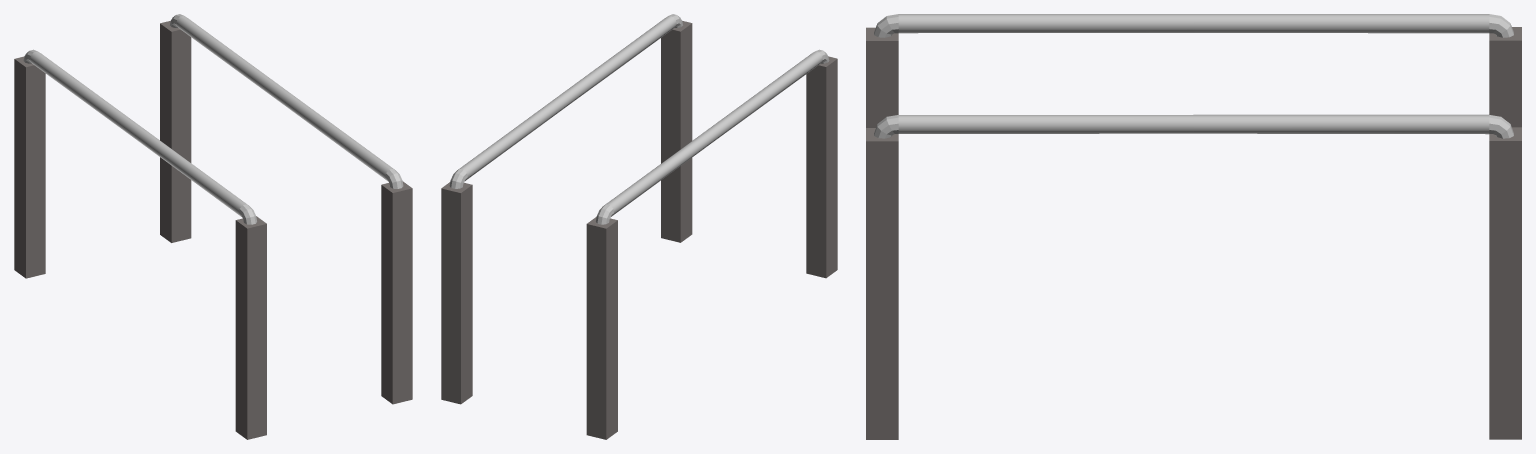
The model's file is SM_Crossbar_02.fbx.
3 renders of one model, left to right at view 1: azimuth 30°, elevation 25°; view 2: azimuth 150°, elevation 25°; view 3: azimuth 270°, elevation 25°, orthographic. The views are drawn at different scales.
Parts seen in each view (by area): view 1: SM_Crossbar_02; view 2: SM_Crossbar_02; view 3: SM_Crossbar_02.
Boxes of the visible parts, <box> form: SM_Crossbar_02: <box>14,14,412,439</box>; SM_Crossbar_02: <box>441,14,837,439</box>; SM_Crossbar_02: <box>866,14,1521,439</box>.
Bounding box in the file's own units: 102 × 131 × 246.
Materials: 1 (1 with a texture image).
